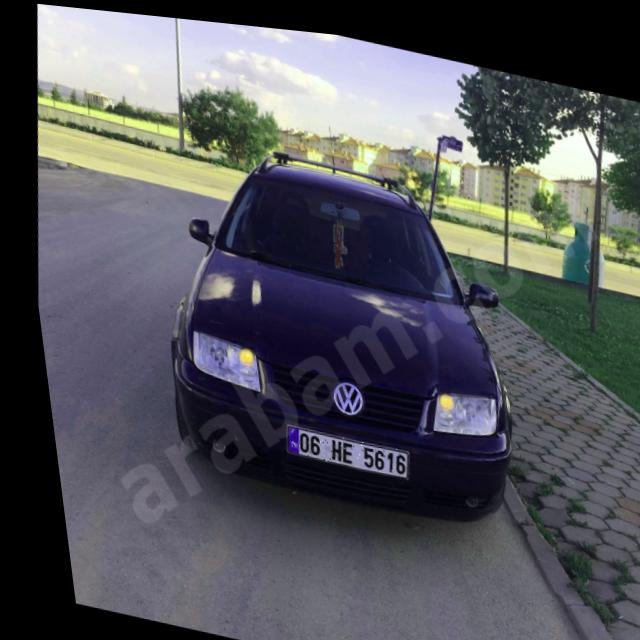license_plate: (273, 419, 400, 472)
